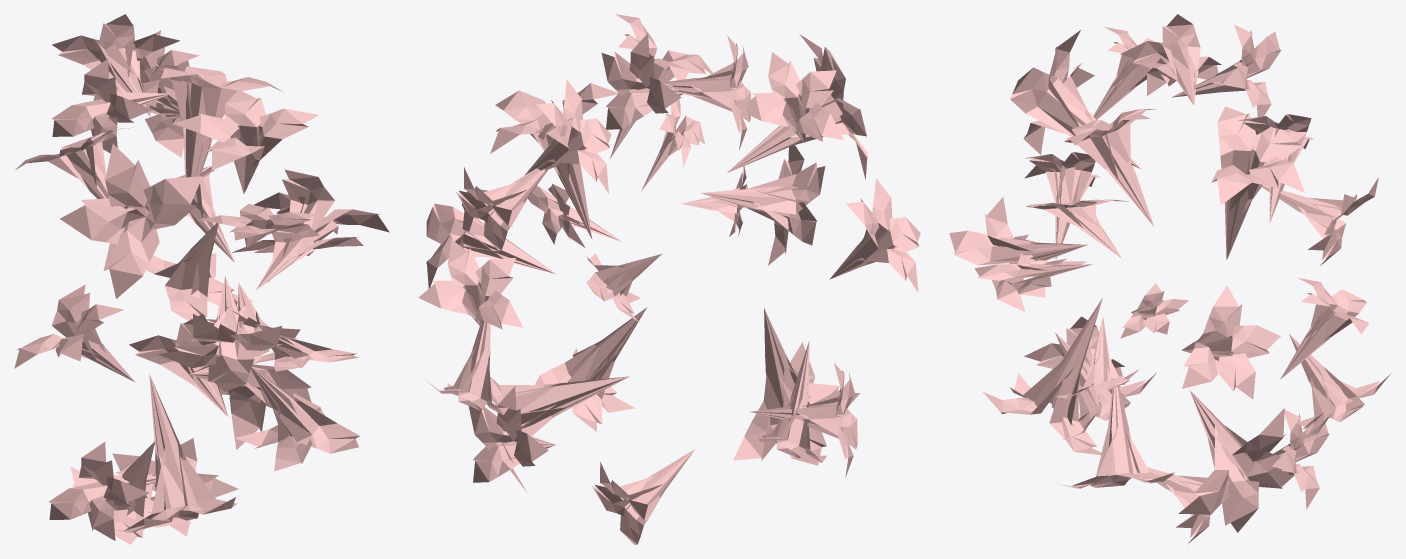
The model's file is 39_openskp_material_49.obj.
The picture shows the model from 3 angles, left to right: view 1: azimuth 30°, elevation 25°; view 2: azimuth 150°, elevation 25°; view 3: azimuth 270°, elevation 25°; orthographic projection. The views are drawn at different scales.
Visible parts, largest first — view 1: 39_openskp_material_49; view 2: 39_openskp_material_49; view 3: 39_openskp_material_49.
Part boxes in pixels (bbox=[...]): 39_openskp_material_49: bbox=[14, 14, 389, 544]; 39_openskp_material_49: bbox=[418, 14, 920, 544]; 39_openskp_material_49: bbox=[949, 14, 1391, 544].
Bounding box in the file's own units: 12.8 × 14.91 × 11.88.
